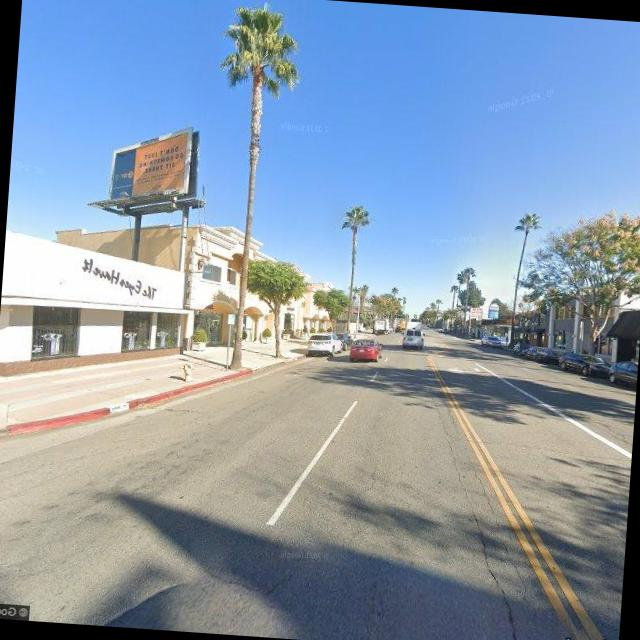pothole: (436, 442, 532, 640), (456, 454, 542, 596), (347, 462, 383, 542)
